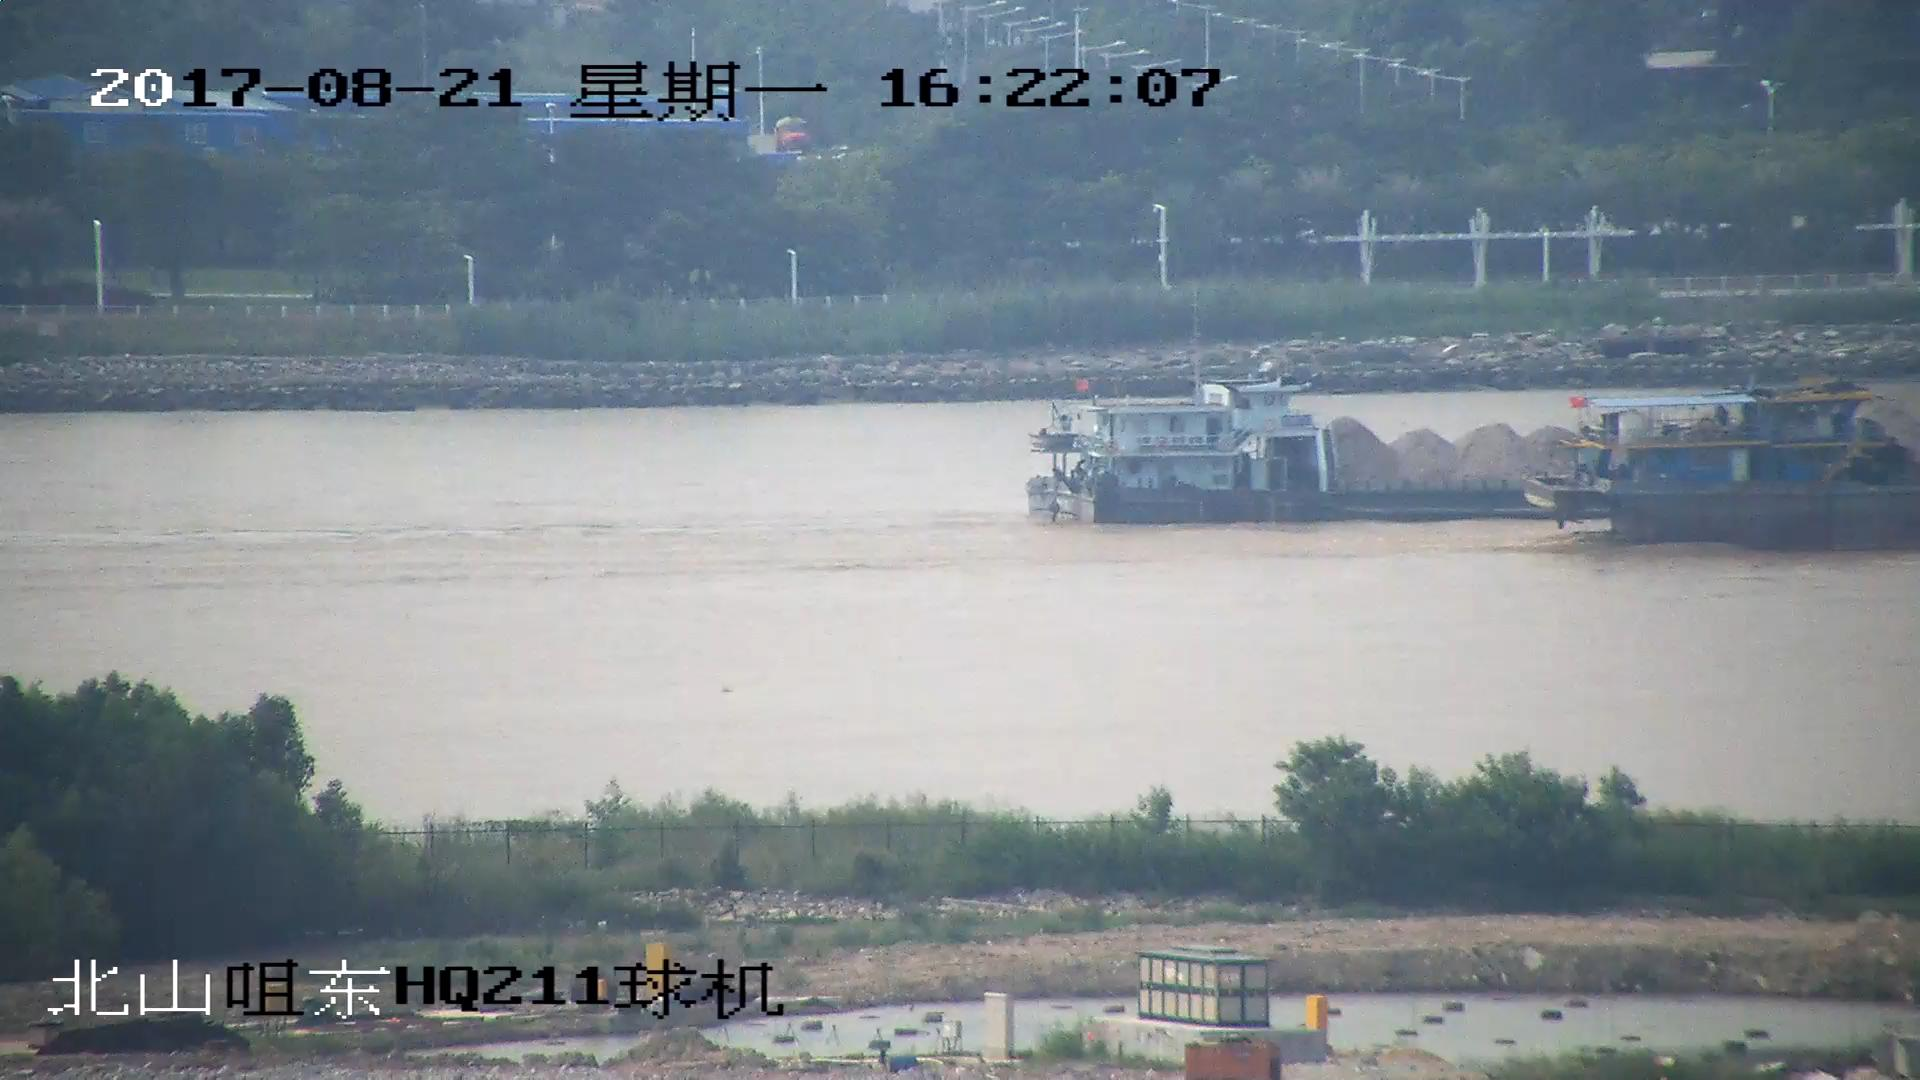bulk cargo carrier: (1529, 399, 1920, 545)
ore carrier: (1019, 376, 1920, 523)
